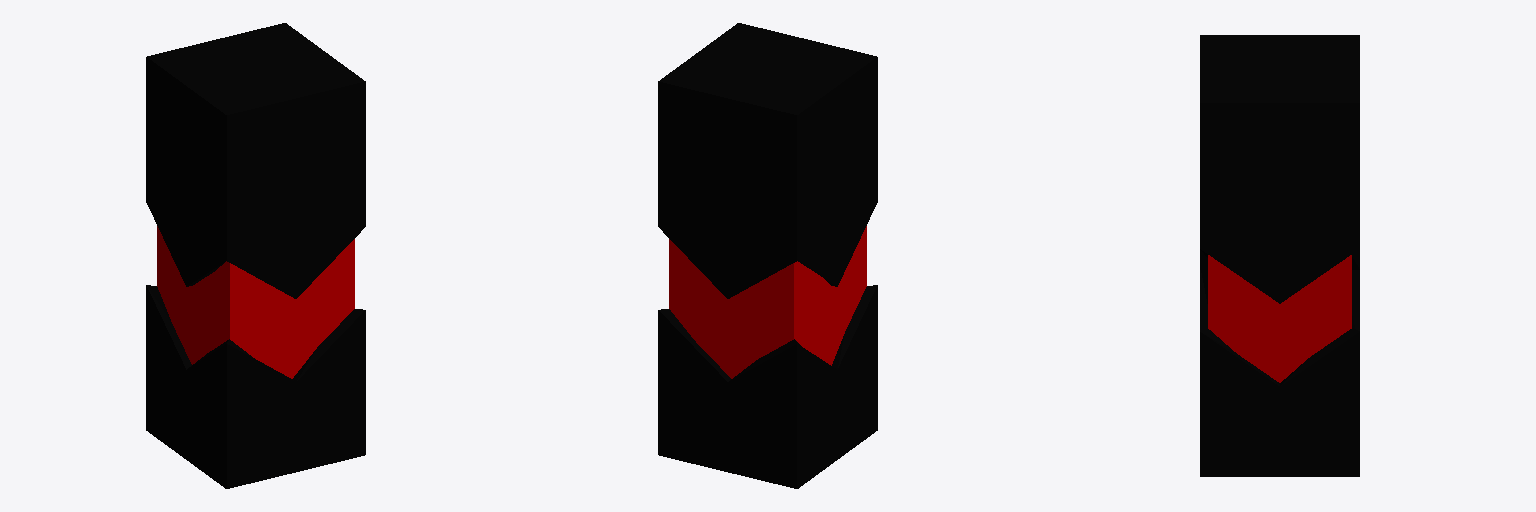
Rendered from torre.obj.
3 renders of one model, left to right at view 1: azimuth 30°, elevation 25°; view 2: azimuth 150°, elevation 25°; view 3: azimuth 270°, elevation 25°, orthographic.
Parts seen in each view (by area): view 1: Cubo.002_Cubo.006, Cubo.001_Cubo.005, Cubo; view 2: Cubo.002_Cubo.006, Cubo.001_Cubo.005, Cubo; view 3: Cubo.002_Cubo.006, Cubo.001_Cubo.005, Cubo.
Part boxes in pixels (x1,y1,x2,y2): Cubo.002_Cubo.006: (146, 23, 365, 298); Cubo.001_Cubo.005: (146, 285, 365, 488); Cubo: (157, 226, 354, 378); Cubo.002_Cubo.006: (658, 23, 877, 298); Cubo.001_Cubo.005: (658, 285, 877, 488); Cubo: (669, 226, 866, 378); Cubo.002_Cubo.006: (1200, 35, 1359, 303); Cubo.001_Cubo.005: (1200, 270, 1359, 476); Cubo: (1208, 255, 1351, 382).
Bounding box in the file's own units: 2 × 5.14 × 2.